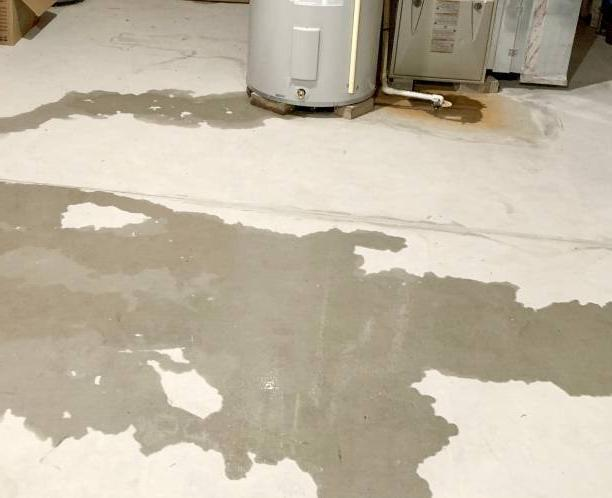water accumulation: (0, 179, 610, 498), (0, 87, 300, 133), (406, 88, 486, 126)
